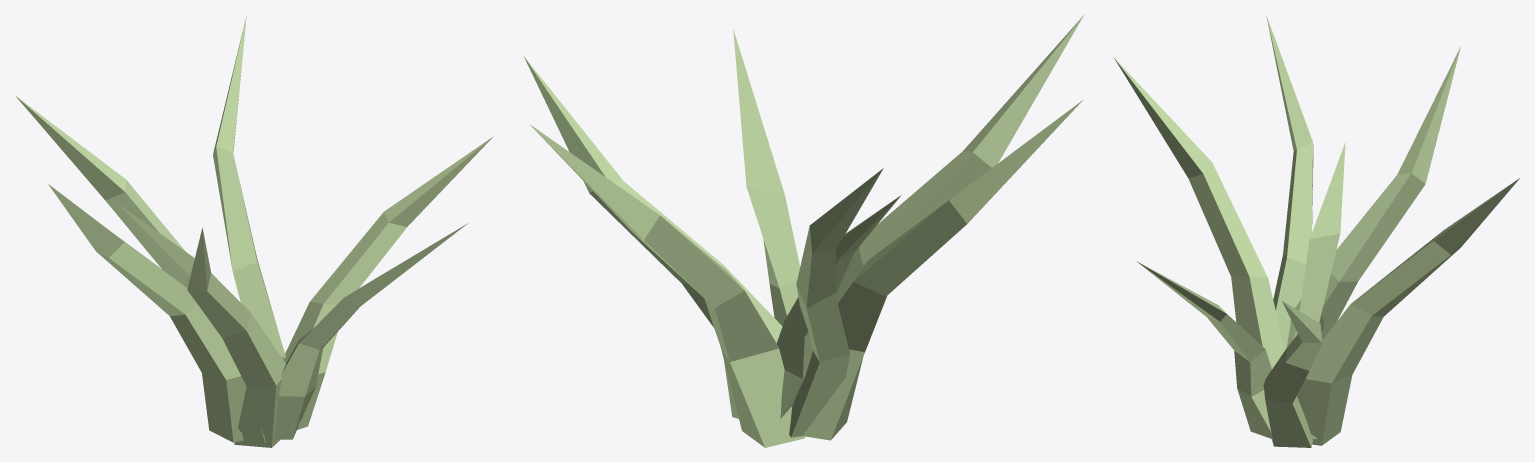
The model's file is Grass_2.fbx.
3 views of the same model, side by side, from view 1: azimuth 30°, elevation 25°; view 2: azimuth 150°, elevation 25°; view 3: azimuth 270°, elevation 25° (orthographic). The views are drawn at different scales.
Visible parts, largest first — view 1: pCylinder8, pCylinder9, pCylinder12, pCylinder10, pCylinder14, pCylinder15, pCylinder16; view 2: pCylinder10, pCylinder8, pCylinder15, pCylinder9, pCylinder14, pCylinder12, pCylinder16; view 3: pCylinder10, pCylinder9, pCylinder15, pCylinder8, pCylinder12, pCylinder14, pCylinder16.
Boxes of the visible parts, <box> form: pCylinder8: <box>48,184,246,442</box>; pCylinder9: <box>187,227,285,447</box>; pCylinder12: <box>283,136,493,429</box>; pCylinder10: <box>213,15,285,359</box>; pCylinder14: <box>274,223,467,439</box>; pCylinder15: <box>15,95,265,443</box>; pCylinder16: <box>118,204,194,277</box>; pCylinder10: <box>529,124,805,447</box>; pCylinder8: <box>803,100,1082,440</box>; pCylinder15: <box>789,168,883,437</box>; pCylinder9: <box>835,14,1084,303</box>; pCylinder14: <box>733,29,799,325</box>; pCylinder12: <box>523,56,782,418</box>; pCylinder16: <box>776,195,901,418</box>; pCylinder10: <box>1297,178,1519,445</box>; pCylinder9: <box>1113,57,1284,368</box>; pCylinder15: <box>1286,46,1460,347</box>; pCylinder8: <box>1266,15,1313,349</box>; pCylinder12: <box>1263,301,1322,447</box>; pCylinder14: <box>1136,261,1271,438</box>; pCylinder16: <box>1293,142,1345,439</box>.
Size of the model in its own units: 0.00768 by 0.00508 by 0.00606.
